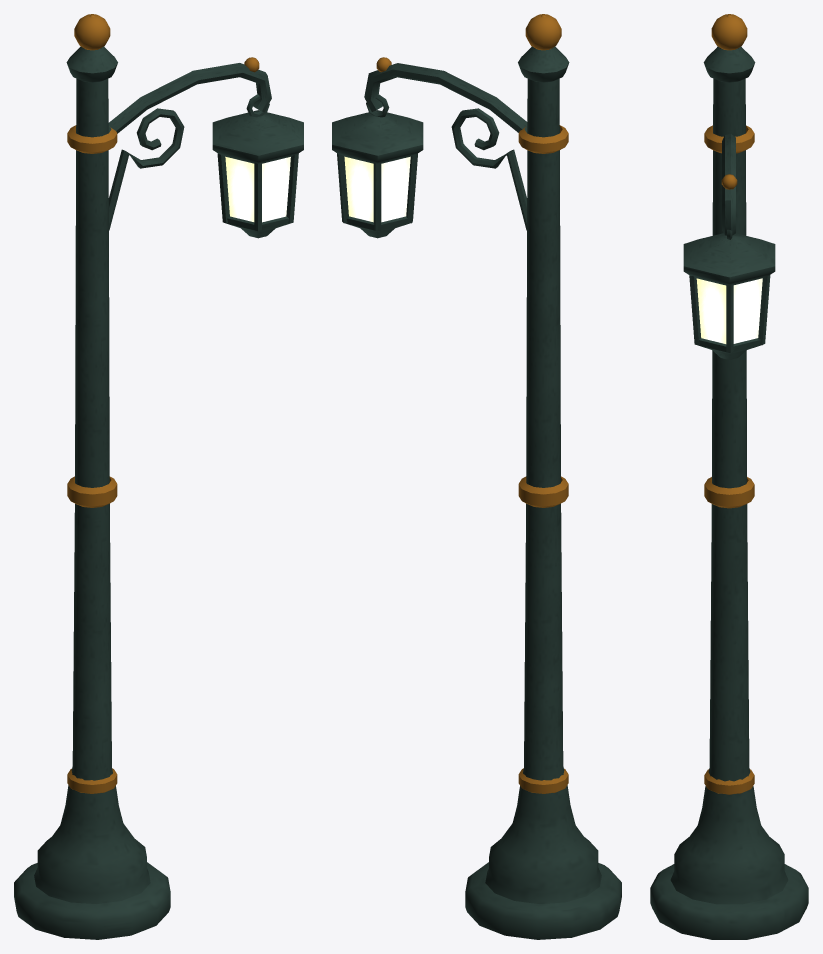
File: village-lamp.glb
3 renders of one model, left to right at view 1: azimuth 30°, elevation 25°; view 2: azimuth 150°, elevation 25°; view 3: azimuth 270°, elevation 25°, orthographic.
Visible parts, largest first — view 1: village-lamp; view 2: village-lamp; view 3: village-lamp.
Part boxes in pixels (x1,y1,x2,y2): village-lamp: [14, 14, 303, 939]; village-lamp: [332, 14, 621, 939]; village-lamp: [650, 14, 808, 939].
Size of the model in its own units: 0.8726 by 2.67 by 0.43.
3 materials, 2 textured.
